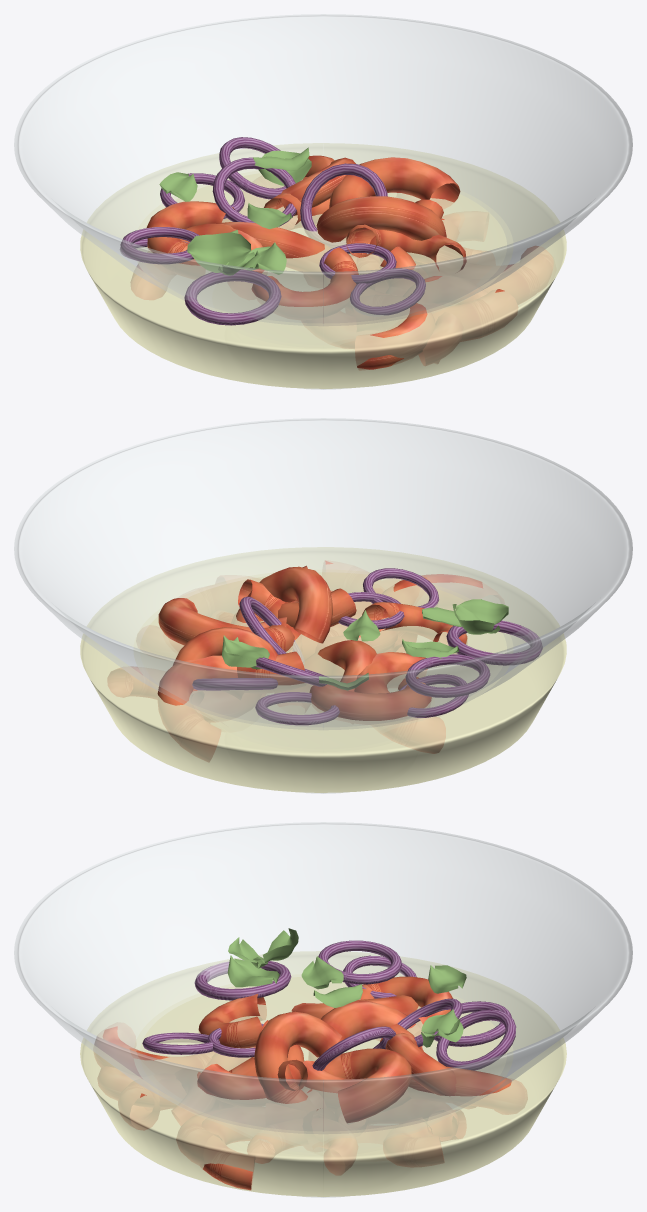
The model's file is ceviche-camarones.glb.
3 renders of one model, top to bottom at view 1: azimuth 30°, elevation 25°; view 2: azimuth 150°, elevation 25°; view 3: azimuth 270°, elevation 25°, orthographic.
Size of the model in its own units: 0.15 by 0.055 by 0.15.
Materials: 5 (2 with a texture image).
